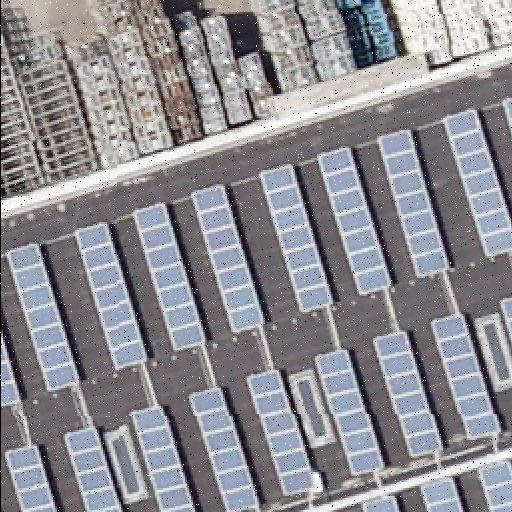solar-panel: (128, 202, 208, 354), (257, 162, 335, 314), (4, 242, 80, 394), (190, 185, 266, 335), (316, 146, 392, 294), (71, 222, 145, 370), (375, 130, 449, 278), (440, 109, 512, 259), (371, 329, 445, 463), (244, 367, 320, 497), (310, 347, 386, 477), (187, 384, 261, 512), (428, 314, 500, 442), (126, 401, 194, 511), (61, 424, 123, 512), (0, 444, 56, 512), (1, 330, 23, 410), (476, 464, 512, 512), (417, 476, 463, 512), (496, 297, 512, 351), (360, 496, 400, 512), (504, 93, 512, 131)
